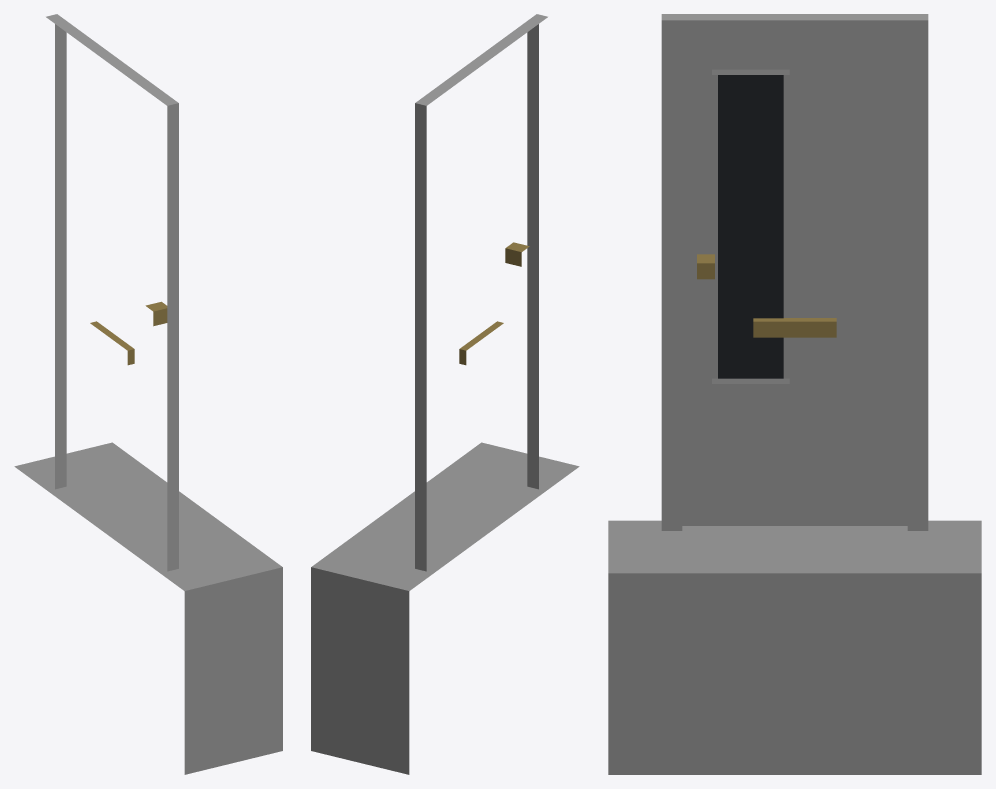
The model's file is SM_Prop_door_modern_1.glb.
3 renders of one model, left to right at view 1: azimuth 30°, elevation 25°; view 2: azimuth 150°, elevation 25°; view 3: azimuth 270°, elevation 25°, orthographic. The views are drawn at different scales.
Visible parts, largest first — view 1: SM_Prop_door_modern_1; view 2: SM_Prop_door_modern_1; view 3: SM_Prop_door_modern_1.
Part boxes in pixels (x1,y1,x2,y2): SM_Prop_door_modern_1: (14,14,282,774); SM_Prop_door_modern_1: (311,14,579,774); SM_Prop_door_modern_1: (608,14,981,774).
Size of the model in its own units: 0.42 by 2.65 by 1.26.
